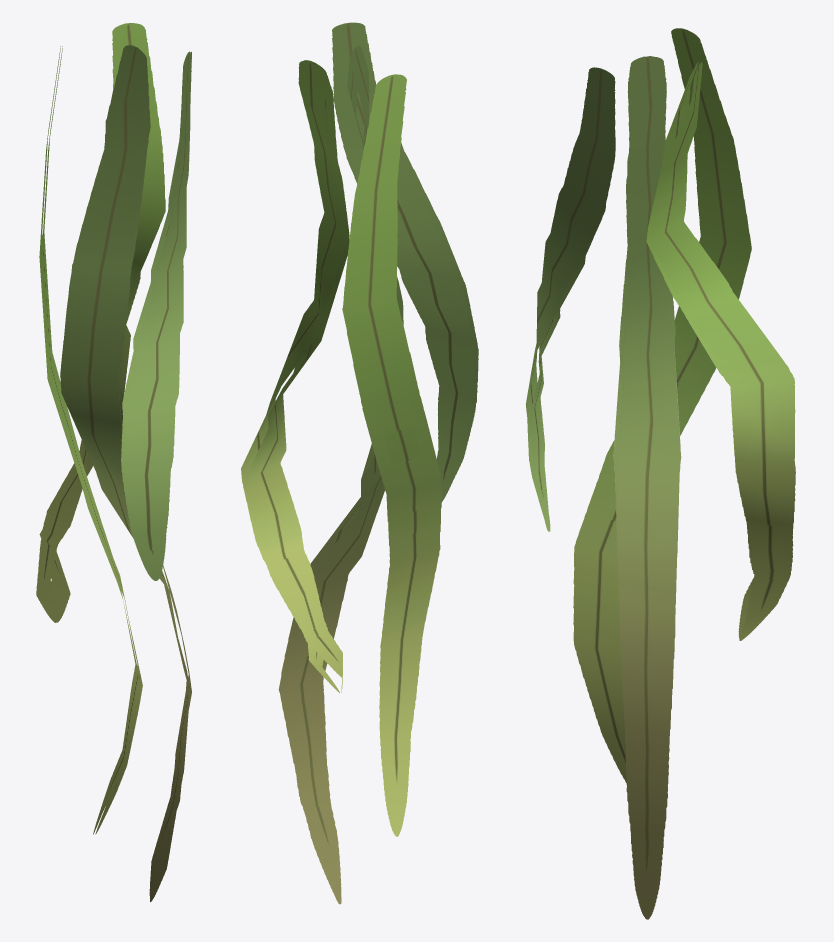
Rendered from Seaweed_Base_01.fbx.
3 views of the same model, side by side, from view 1: azimuth 30°, elevation 25°; view 2: azimuth 150°, elevation 25°; view 3: azimuth 270°, elevation 25° (orthographic).
Visible parts, largest first — view 1: pPlane3, pPlane6, pPlane4, pPlane5; view 2: pPlane5, pPlane4, pPlane6, pPlane3; view 3: pPlane3, pPlane4, pPlane5, pPlane6.
Part boxes in pixels (box(x1,y1,x2,y2)): pPlane3: box(60, 45, 191, 902); pPlane6: box(121, 51, 191, 580); pPlane4: box(36, 23, 165, 622); pPlane5: box(39, 46, 142, 834); pPlane5: box(342, 74, 442, 836); pPlane4: box(241, 60, 349, 692); pPlane6: box(332, 22, 478, 502); pPlane3: box(278, 46, 403, 904); pPlane3: box(613, 56, 681, 919); pPlane4: box(646, 62, 795, 640); pPlane5: box(573, 28, 751, 782); pPlane6: box(525, 67, 615, 531).
Bounding box in the file's own units: 0.862 × 4.47 × 1.39.
1 material, 1 textured.
